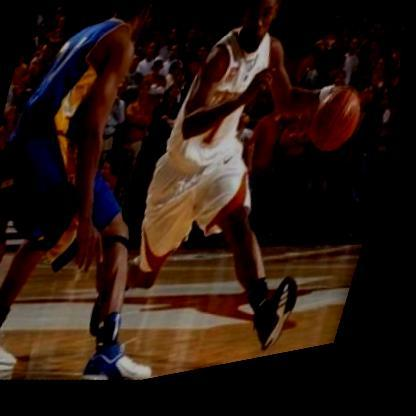basketball: (302, 87, 379, 179)
